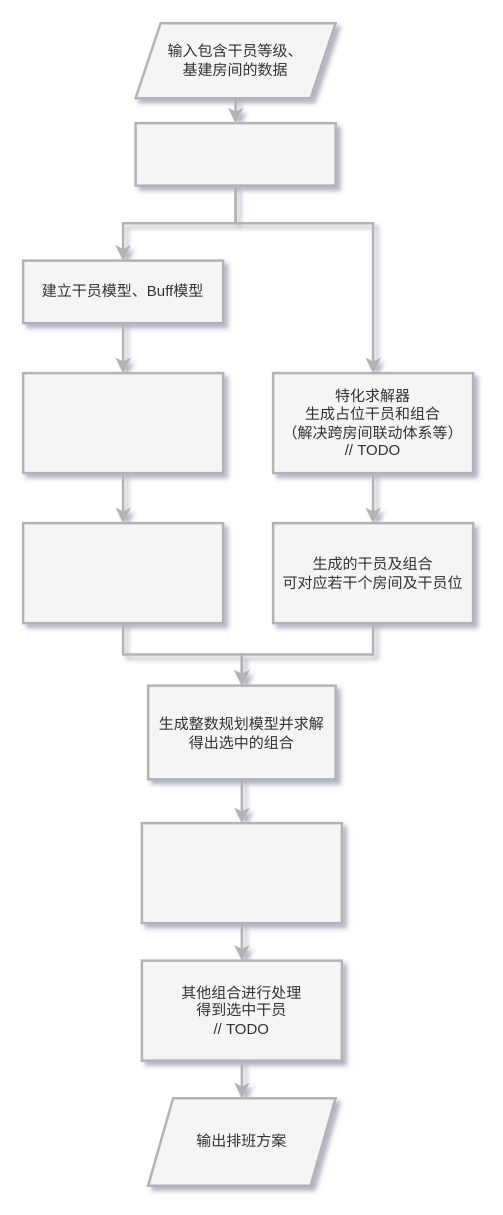
Some shapes in this 503 by 1215 pixel diagram are drawn without their labels. The centre of each missing label's shape, as x and y in pixels:
创建求解器参数类 WorkerParams: (x=235, y=153)
对应实际干员的组合 直接得出选中干员: (x=241, y=872)
生成 对应相应房间及干员的组合: (x=122, y=572)
通用求解器 枚举所单房间中 可能的干员组合 通过干员及Buff模型 计算出加成: (x=122, y=422)
